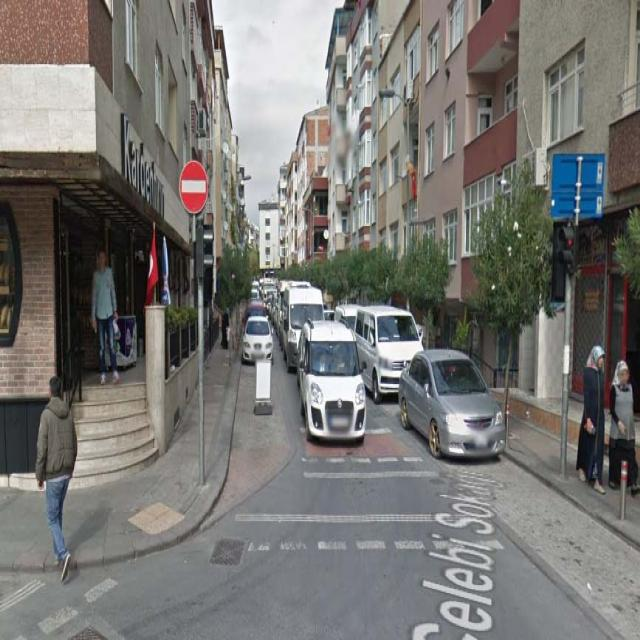girisyok: (179, 159, 208, 213)
